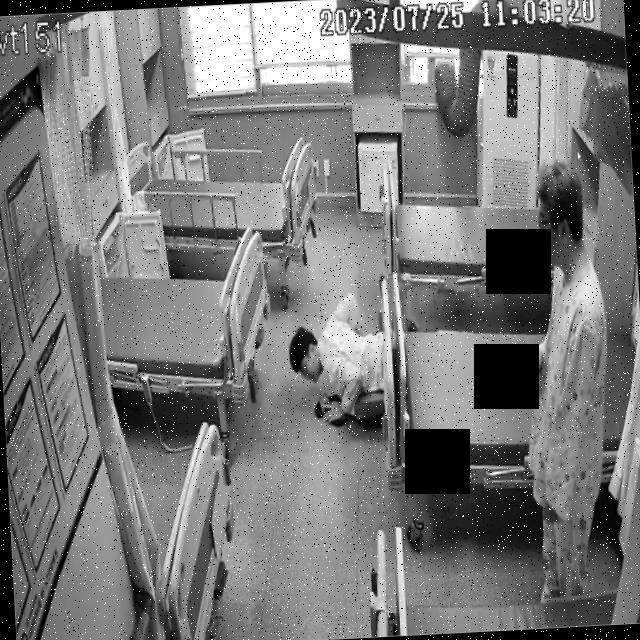bed: (374, 259, 638, 495), (378, 140, 572, 306), (102, 230, 274, 404), (144, 142, 318, 266)
fall: (286, 292, 402, 428)
patient: (512, 159, 620, 602), (284, 290, 406, 429)
